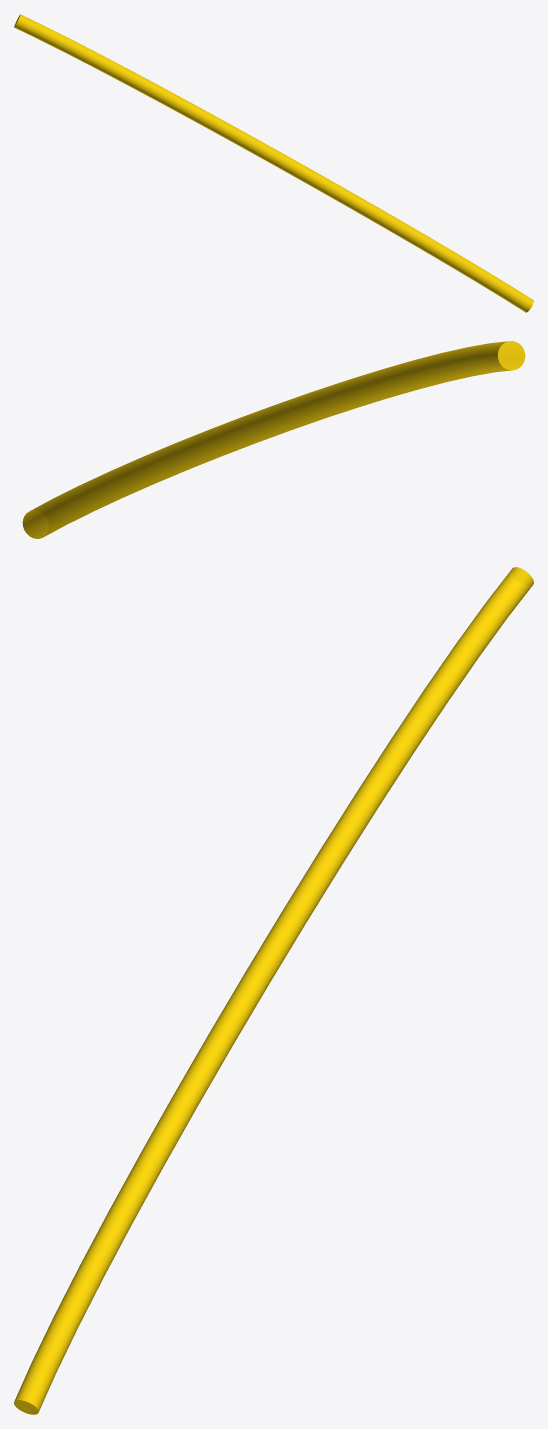
The model's file is Event_421115418_track_12.fbx.
3 views of the same model, one above another, from view 1: azimuth 30°, elevation 25°; view 2: azimuth 150°, elevation 25°; view 3: azimuth 270°, elevation 25° (orthographic). The views are drawn at different scales.
Parts seen in each view (by area): view 1: Model; view 2: Model; view 3: Model.
Boxes of the visible parts, bbox=[...] form: Model: bbox=[14, 14, 533, 312]; Model: bbox=[22, 341, 525, 538]; Model: bbox=[14, 567, 533, 1414].
Size of the model in its own units: 1.2 by 0.8599 by 0.7785.
